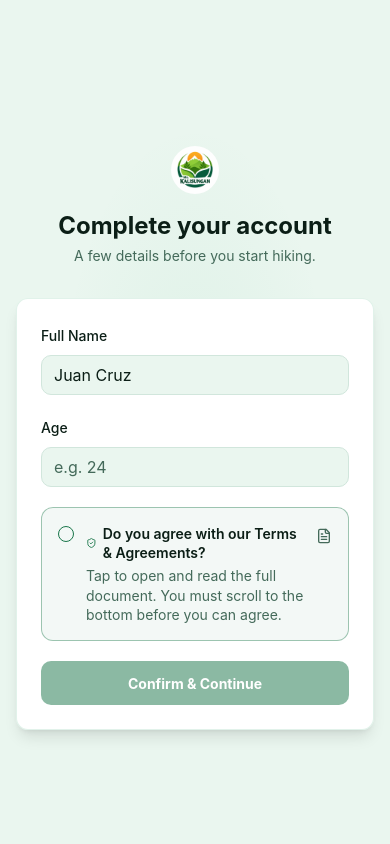
it: onboarding age input › accepts typed digits without browser spinner controls and filters non-numeric input
Type "24abc" into the field labelled "Age" at (195, 467), box [41,447,349,487]
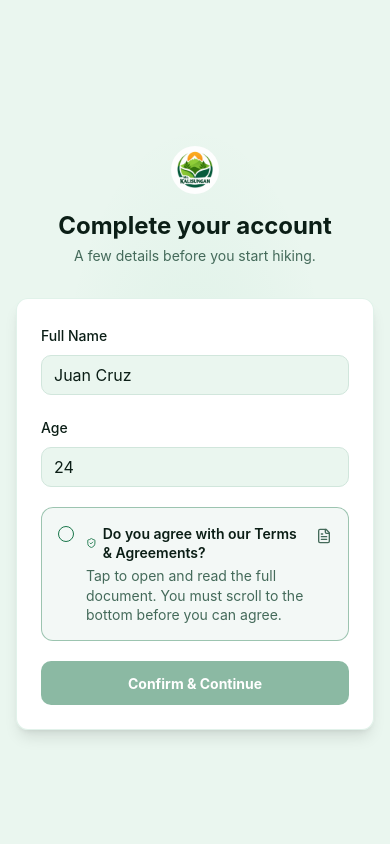
Expected: the field labelled "Age" holds "24", [41,447,349,487]
